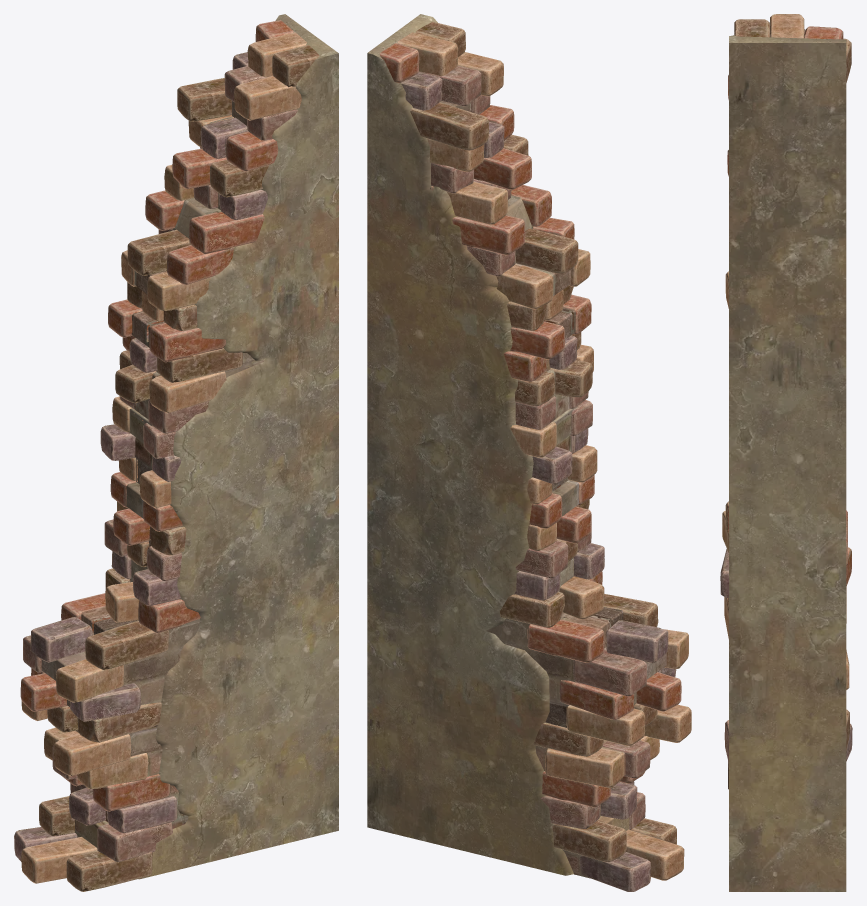
3 views of the same model, side by side, from view 1: azimuth 30°, elevation 25°; view 2: azimuth 150°, elevation 25°; view 3: azimuth 270°, elevation 25° (orthographic). The views are drawn at different scales.
Parts seen in each view (by area): view 1: SM_Human_Ruins_Wall_Dmg_01_LOD0; view 2: SM_Human_Ruins_Wall_Dmg_01_LOD0; view 3: SM_Human_Ruins_Wall_Dmg_01_LOD0.
Boxes of the visible parts, bbox=[...] form: SM_Human_Ruins_Wall_Dmg_01_LOD0: bbox=[14, 14, 338, 891]; SM_Human_Ruins_Wall_Dmg_01_LOD0: bbox=[367, 14, 691, 891]; SM_Human_Ruins_Wall_Dmg_01_LOD0: bbox=[720, 14, 852, 891].
Size of the model in its own units: 1.53 by 4 by 0.5638.
Materials: 3 (3 with a texture image).
